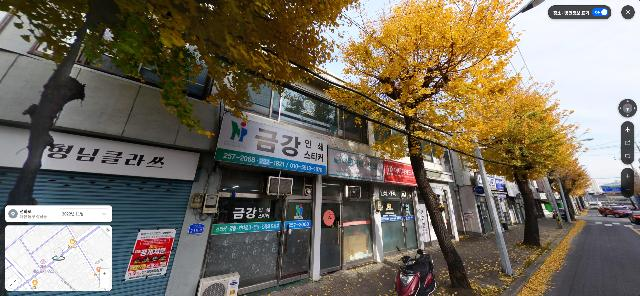ginkgo: (1, 1, 357, 235), (328, 1, 531, 292), (454, 76, 590, 245), (552, 140, 590, 221), (564, 162, 592, 213)
